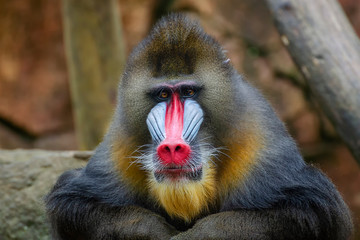Mandrill: (105, 18, 258, 240)
